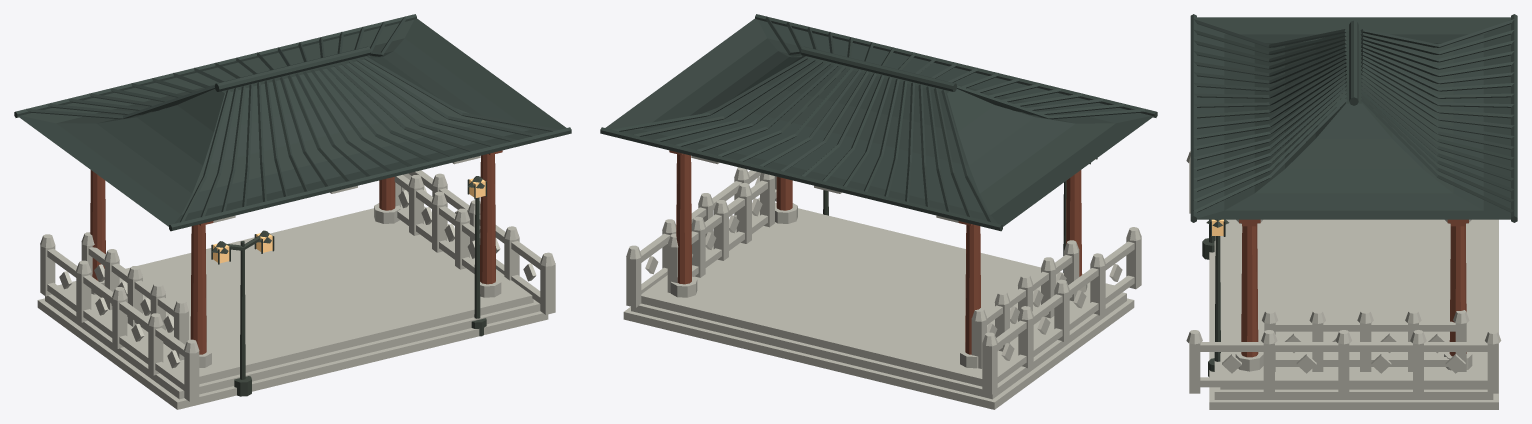
The model's file is sudi.glb.
The picture shows the model from 3 angles, left to right: view 1: azimuth 30°, elevation 25°; view 2: azimuth 150°, elevation 25°; view 3: azimuth 270°, elevation 25°; orthographic projection. The views are drawn at different scales.
Parts seen in each view (by area): view 1: Limestone, Dark_Tile, Lacquered_Wood, Patinated_Iron, Emissive_WarmLamp; view 2: Limestone, Dark_Tile, Lacquered_Wood; view 3: Dark_Tile, Limestone, Lacquered_Wood, Patinated_Iron.
Part boxes in pixels (bbox=[...]): Limestone: bbox=[37, 156, 555, 409]; Dark_Tile: bbox=[14, 14, 571, 231]; Lacquered_Wood: bbox=[90, 150, 502, 354]; Patinated_Iron: bbox=[211, 176, 486, 396]; Emissive_WarmLamp: bbox=[213, 178, 485, 263]; Limestone: bbox=[623, 156, 1141, 409]; Dark_Tile: bbox=[600, 14, 1157, 231]; Lacquered_Wood: bbox=[669, 150, 1081, 354]; Dark_Tile: bbox=[1190, 14, 1517, 222]; Limestone: bbox=[1186, 151, 1501, 409]; Lacquered_Wood: bbox=[1239, 219, 1468, 357]; Patinated_Iron: bbox=[1202, 219, 1229, 376].
Size of the model in its own units: 7.76 by 4.61 by 5.37.
